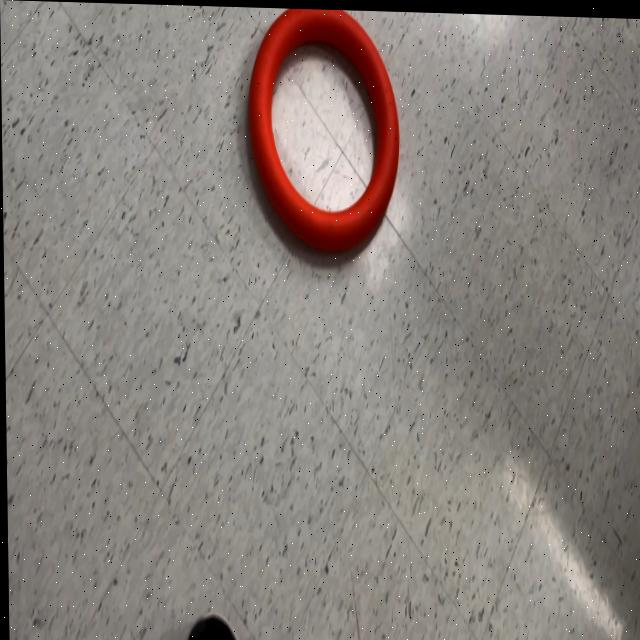note: (245, 6, 403, 259)
